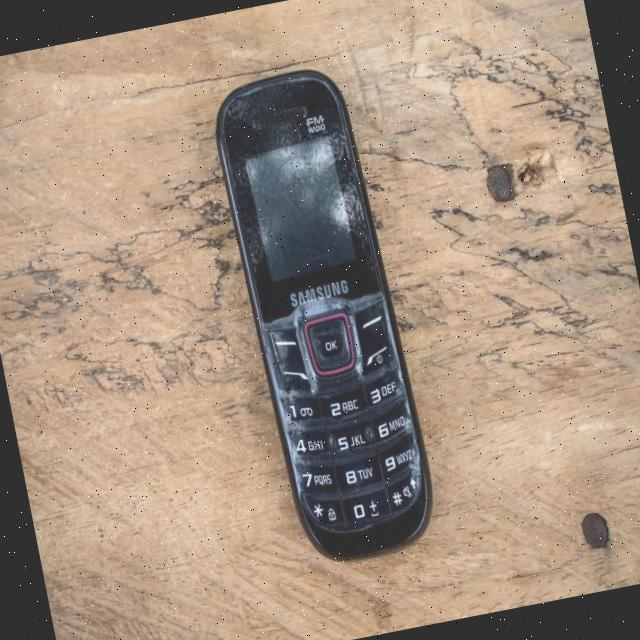Phone: (206, 61, 445, 574)
